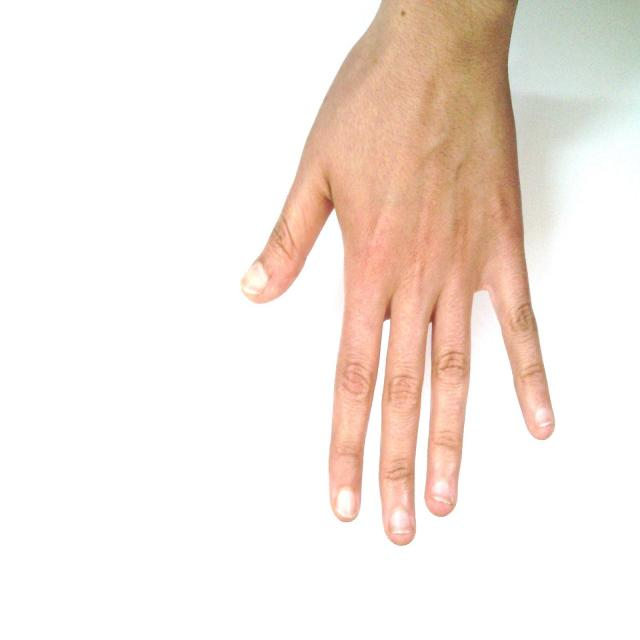others: (190, 1, 590, 552)
